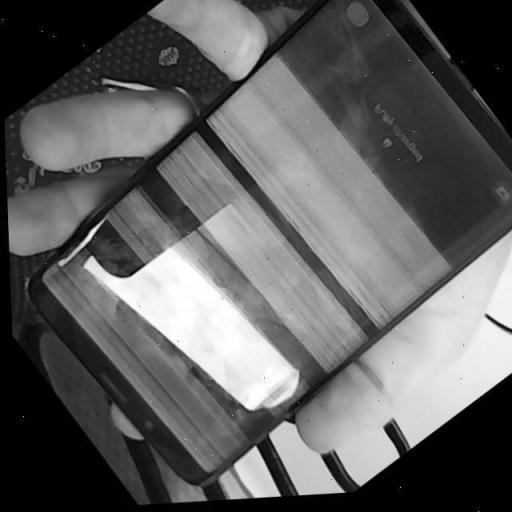phone: (29, 0, 511, 496)
